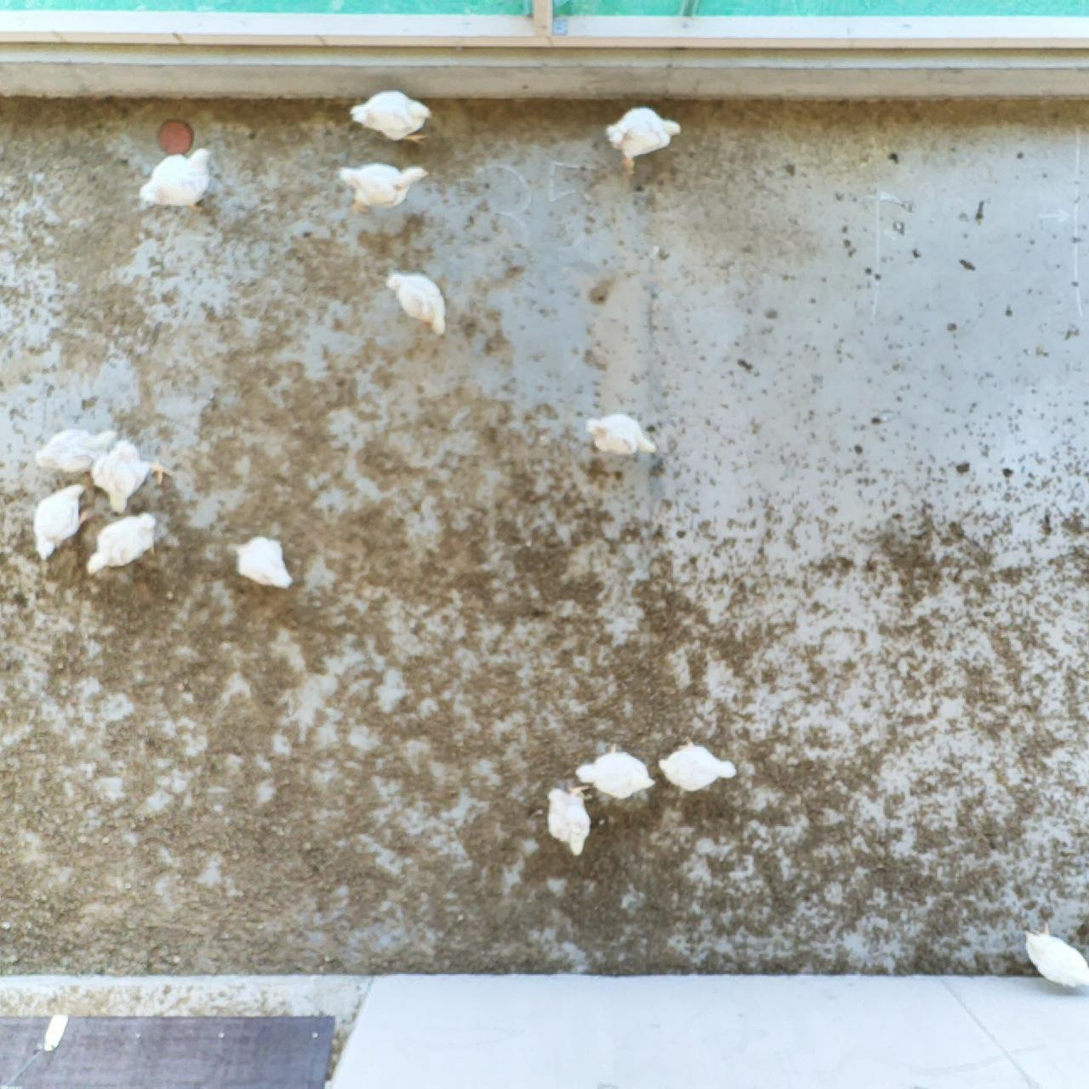chicken: (332, 153, 430, 220), (78, 507, 163, 583), (90, 434, 167, 517), (601, 102, 686, 176), (134, 141, 219, 210), (378, 264, 452, 341), (27, 479, 92, 566), (1016, 920, 1089, 993), (575, 743, 659, 806), (25, 421, 121, 476), (657, 735, 740, 797), (349, 88, 433, 149), (582, 405, 664, 465), (543, 779, 593, 864), (235, 527, 297, 588)
